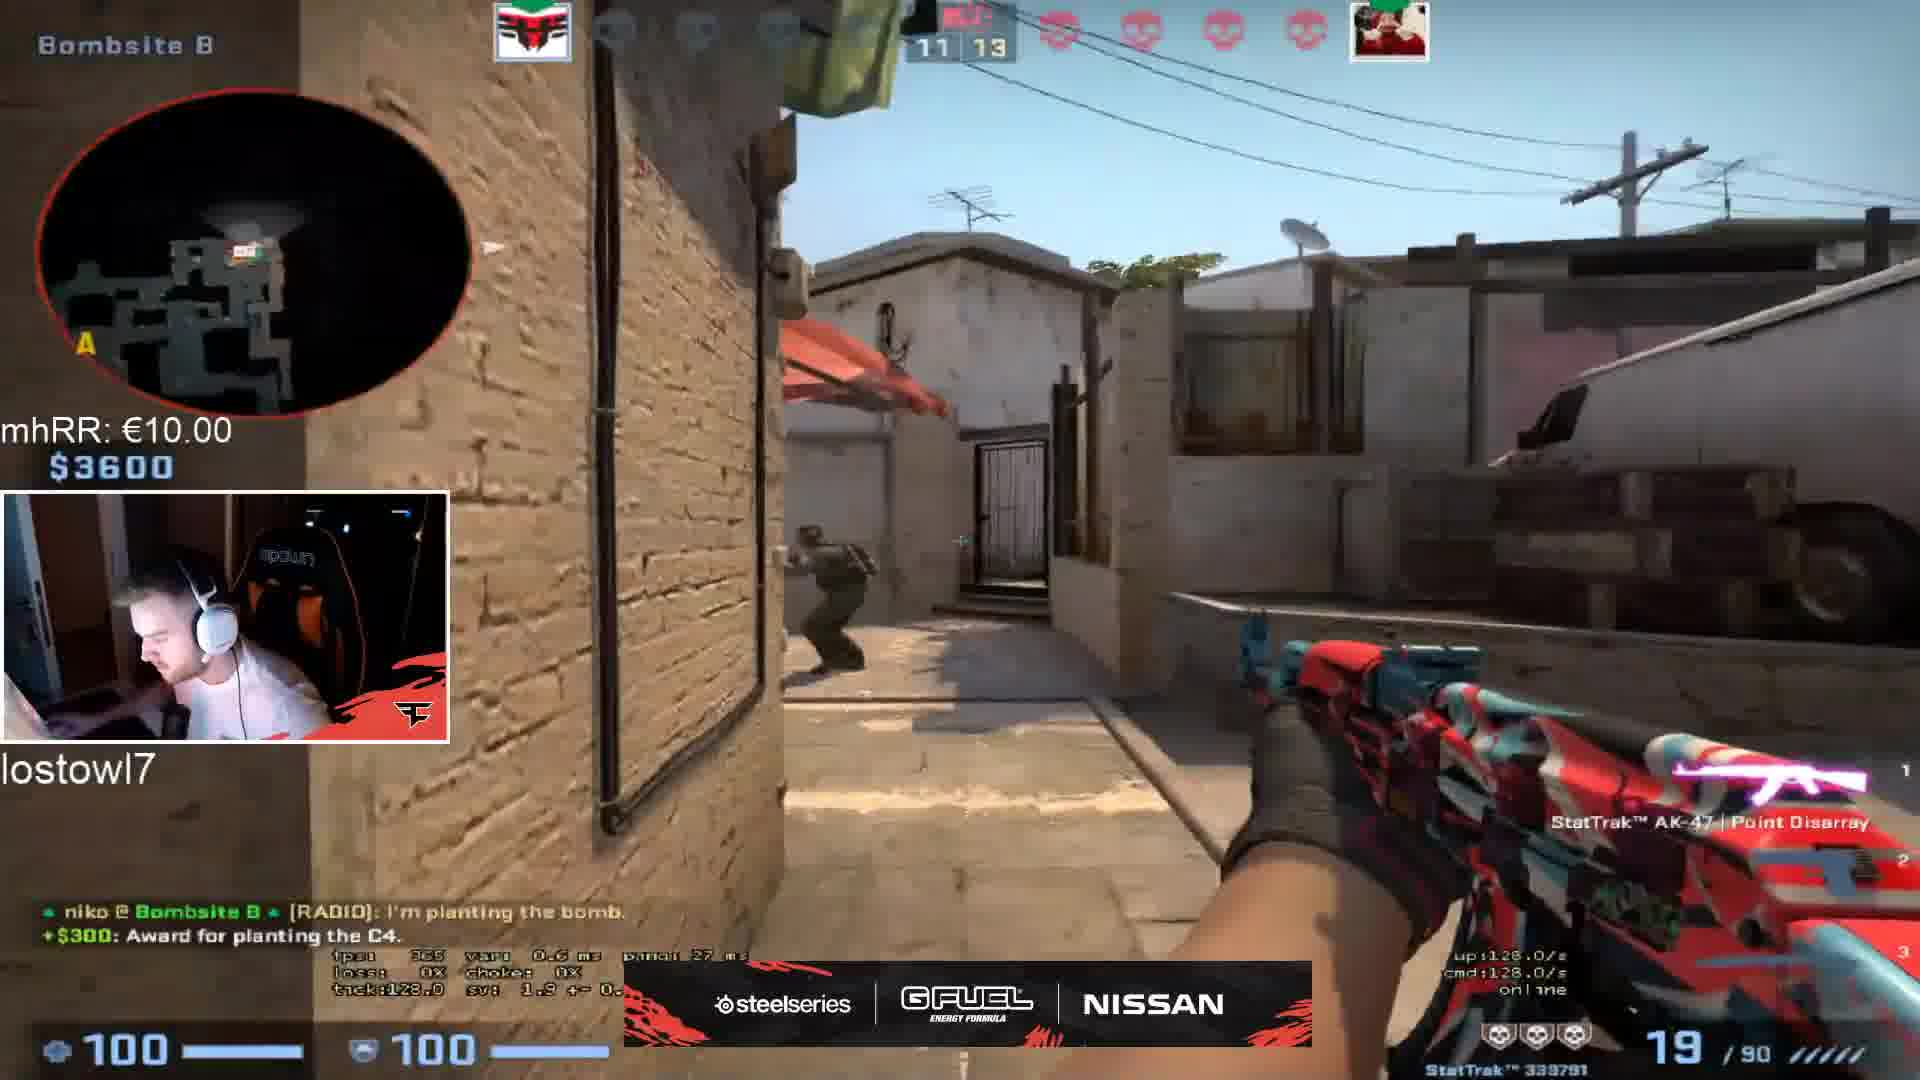enemy: (786, 520, 885, 676)
